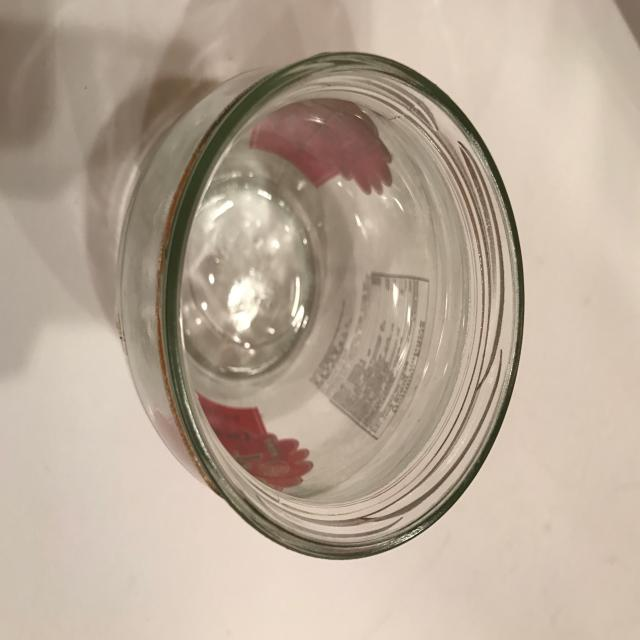glass: (113, 49, 525, 560)
